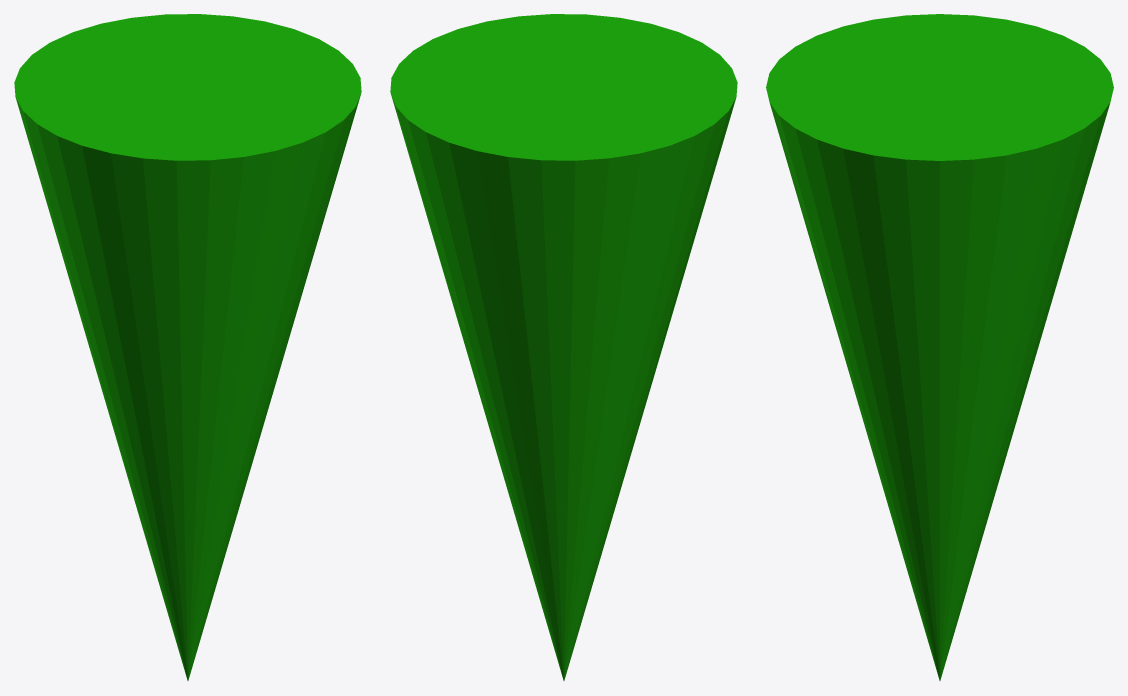
File: 3D Waypoint.fbx
3 renders of one model, left to right at view 1: azimuth 30°, elevation 25°; view 2: azimuth 150°, elevation 25°; view 3: azimuth 270°, elevation 25°, orthographic.
Parts seen in each view (by area): view 1: Cone; view 2: Cone; view 3: Cone.
Part boxes in pixels (box(x1,y1,x2,y2)): Cone: box(14, 14, 361, 680); Cone: box(390, 14, 737, 680); Cone: box(766, 14, 1113, 680).
Size of the model in its own units: 200 by 377 by 200.
